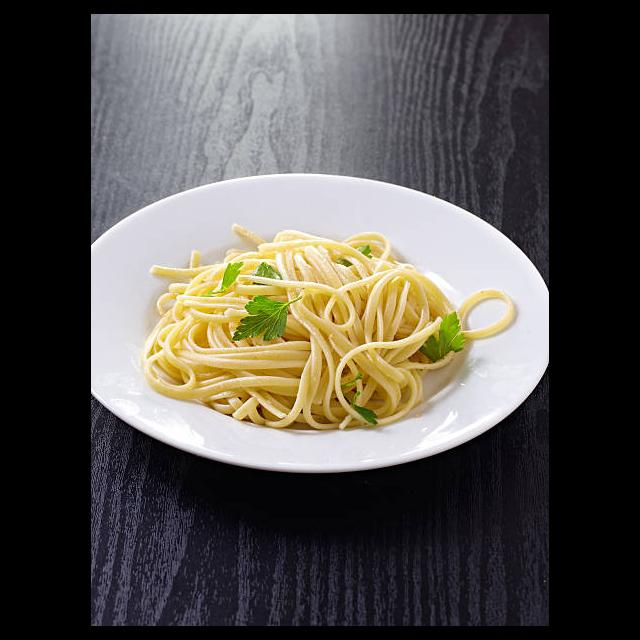noodles: (140, 224, 516, 431)
